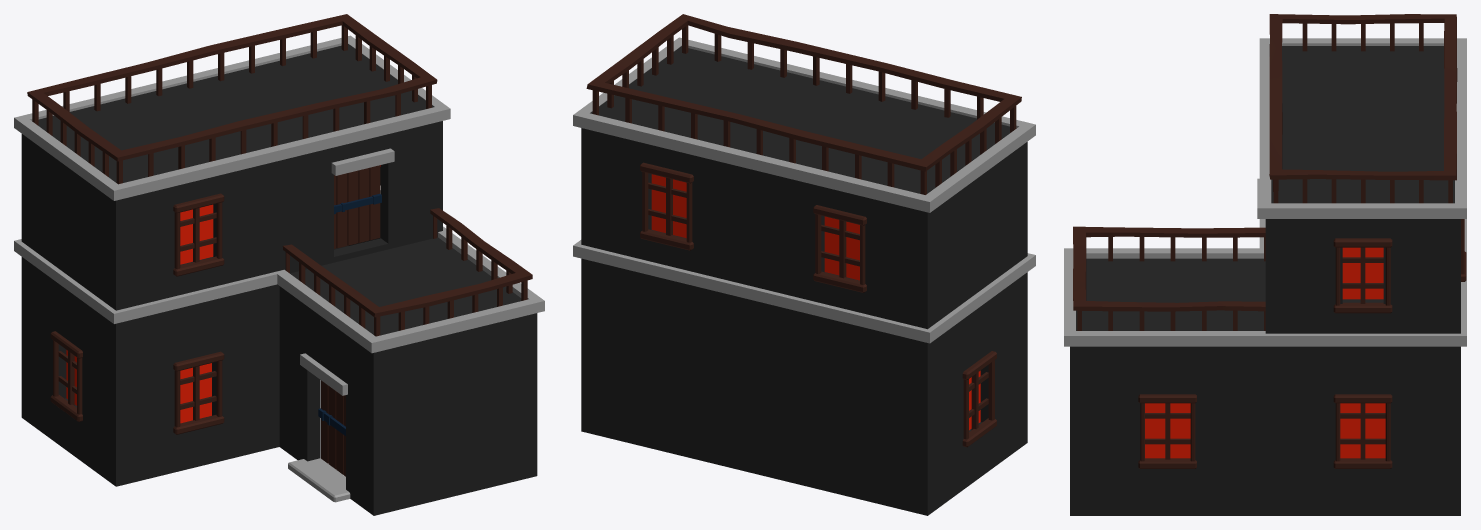
Rendered from civilian_house_33_g.FBX.
3 renders of one model, left to right at view 1: azimuth 30°, elevation 25°; view 2: azimuth 150°, elevation 25°; view 3: azimuth 270°, elevation 25°, orthographic. The views are drawn at different scales.
Visible parts, largest first — view 1: civilian_house_33_g; view 2: civilian_house_33_g; view 3: civilian_house_33_g.
Boxes of the visible parts, left/top/right/bottom form: civilian_house_33_g: left=14, top=14, right=544, bottom=515; civilian_house_33_g: left=573, top=14, right=1035, bottom=515; civilian_house_33_g: left=1064, top=14, right=1466, bottom=515.
Size of the model in its own units: 1030 by 960 by 1030.
